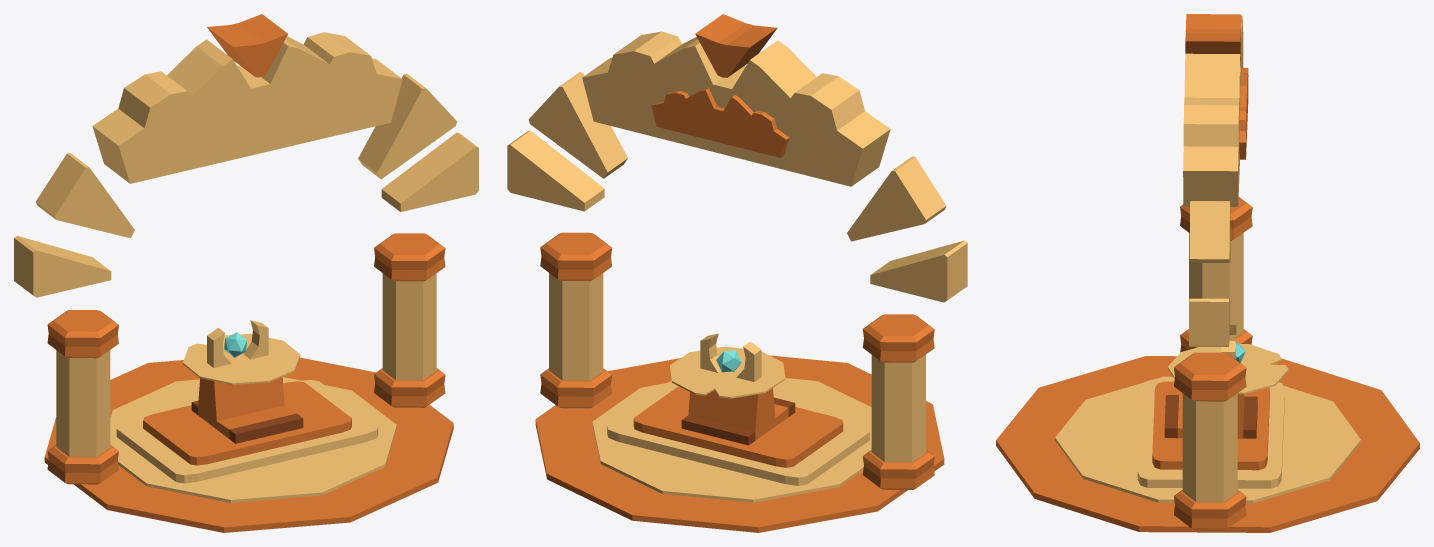
File: temple.fbx
The picture shows the model from 3 angles, left to right: view 1: azimuth 30°, elevation 25°; view 2: azimuth 150°, elevation 25°; view 3: azimuth 270°, elevation 25°; orthographic projection.
Parts seen in each view (by area): view 1: temple; view 2: temple; view 3: temple.
Part boxes in pixels (bbox=[...]): temple: bbox=[14, 14, 478, 532]; temple: bbox=[507, 14, 967, 532]; temple: bbox=[996, 14, 1419, 532].
Size of the model in its own units: 252 by 225 by 205.
